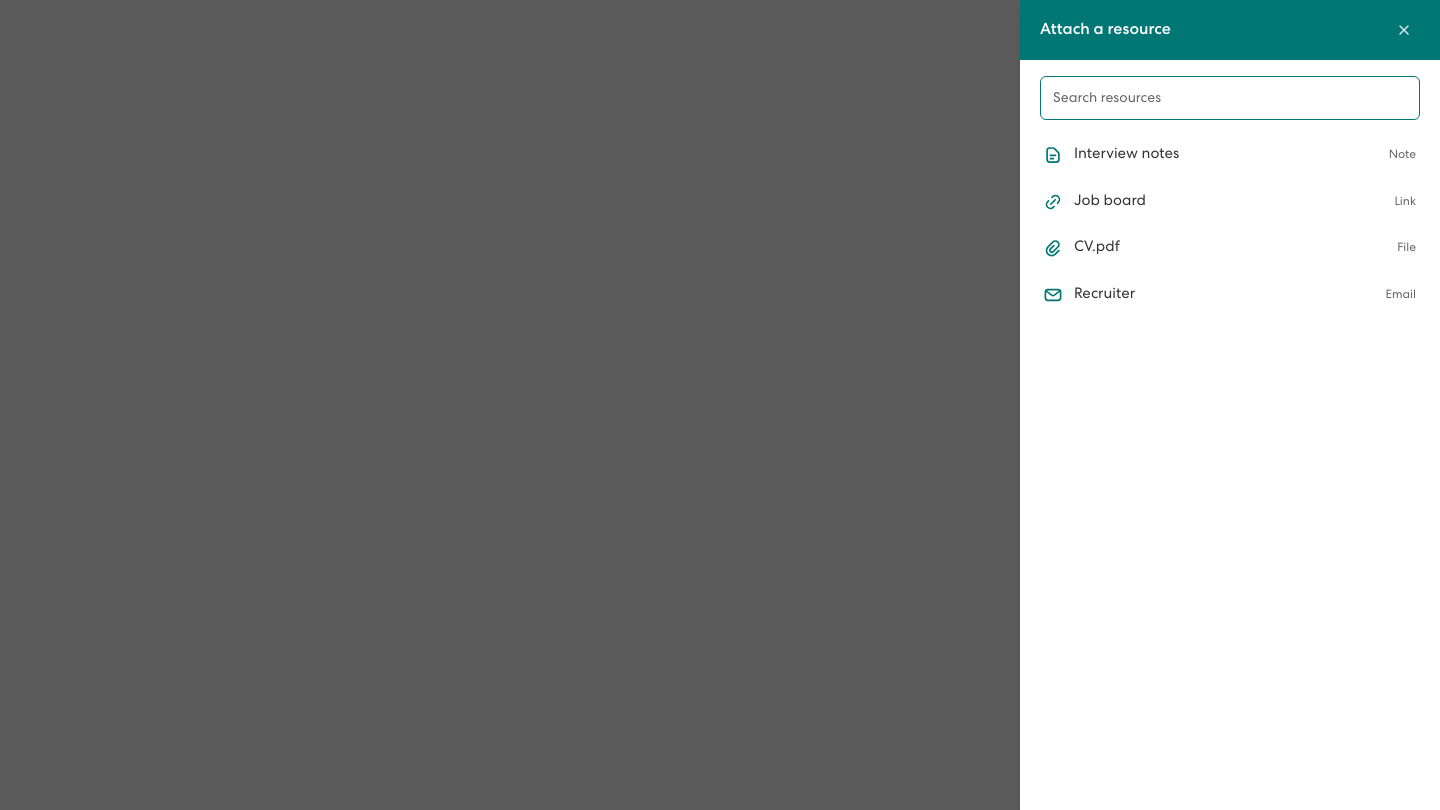
Test: the resource attach sheet › has a search the user can actually see what they type in
Type "Job" into the field labelled "Search resources" at (1230, 98), box x1=1040 y1=76 x2=1420 y2=120
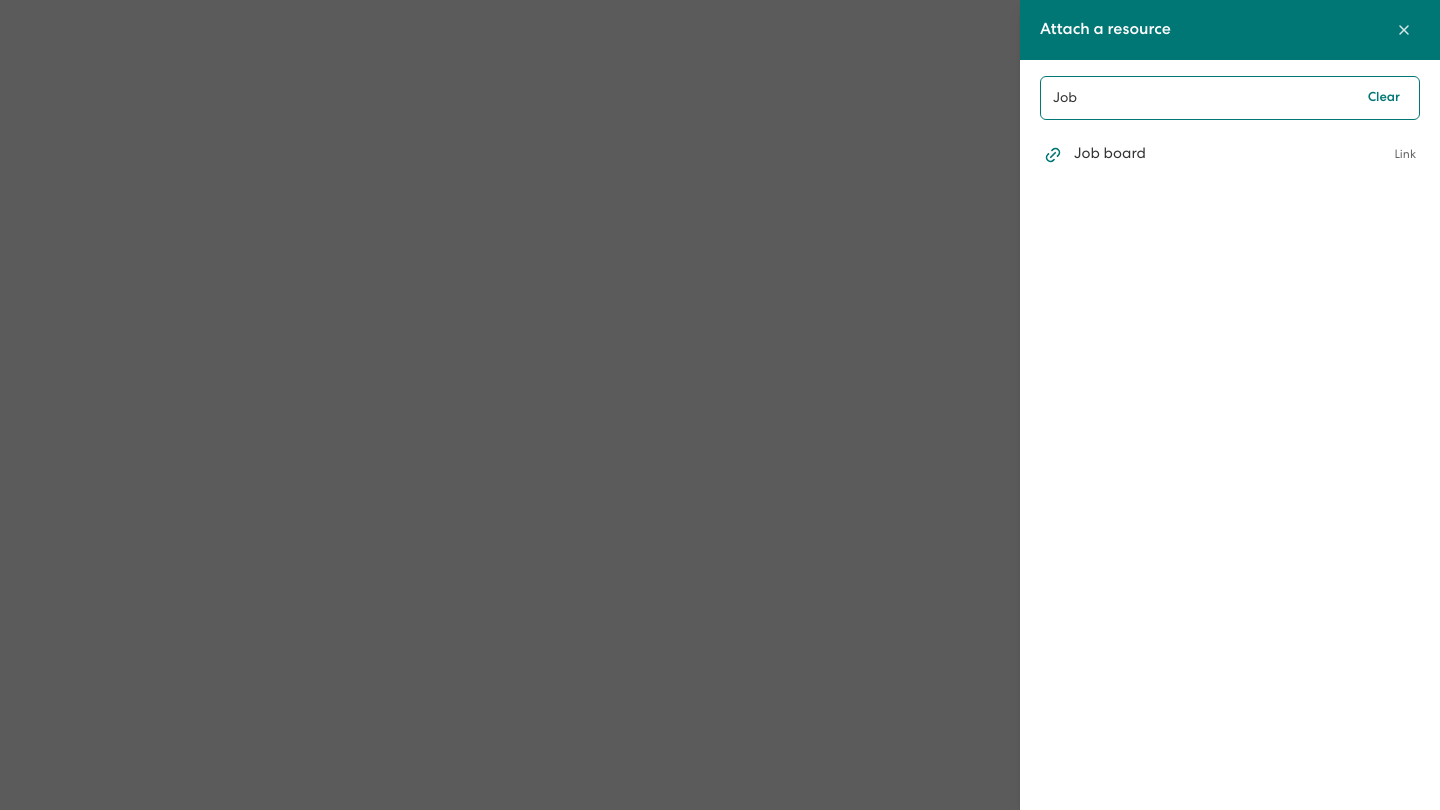
Expected: the text "Job board" is shown, x1=1074 y1=147 x2=1146 y2=162
Now the button "Interview notes" is gone
